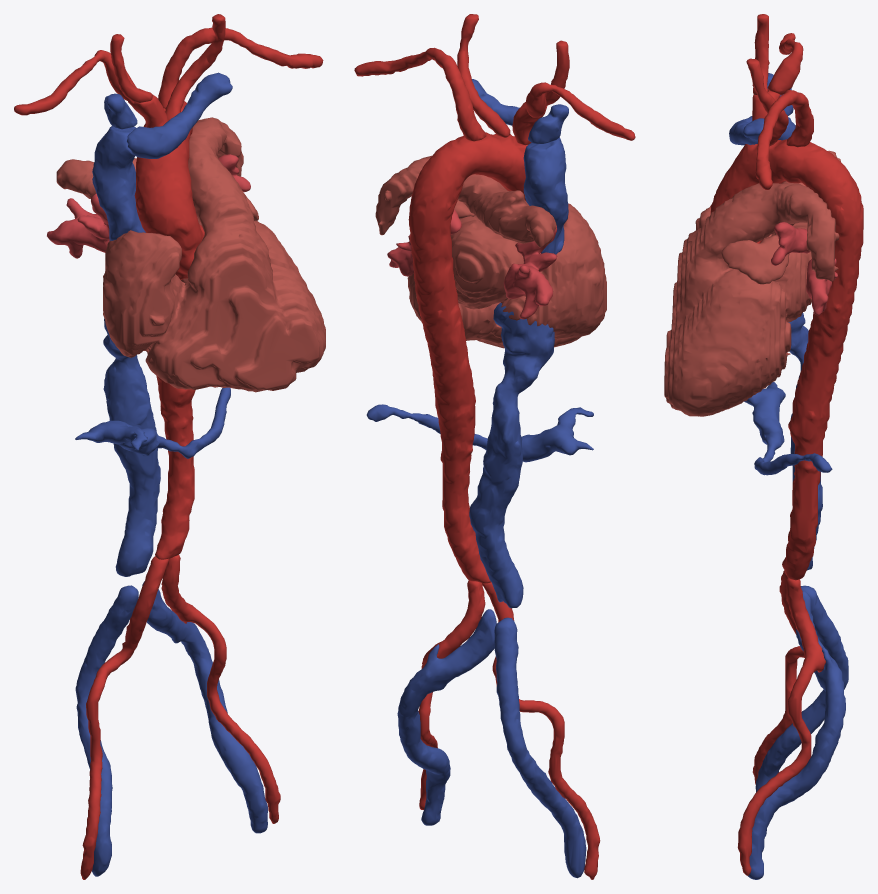
File: tsd_s0327_older_adult_male.cardiovascular.LOD1.glb
The picture shows the model from 3 angles, left to right: view 1: azimuth 30°, elevation 25°; view 2: azimuth 150°, elevation 25°; view 3: azimuth 270°, elevation 25°; orthographic projection. The views are drawn at different scales.
Parts seen in each view (by area): view 1: TSD_S0327.OLDER_ADULT.MALE.CARDIOVASCULAR.HEART_ALL_CHAMBERS, TSD_S0327.OLDER_ADULT.MALE.CARDIOVASCULAR.AORTA, TSD_S0327.OLDER_ADULT.MALE.CARDIOVASCULAR.INFERIOR_VENA_CAVA, TSD_S0327.OLDER_ADULT.MALE.CARDIOVASCULAR.ILIAC_VEIN.L, TSD_S0327.OLDER_ADULT.MALE.CARDIOVASCULAR.ILIAC_VEIN.R, TSD_S0327.OLDER_ADULT.MALE.CARDIOVASCULAR.ILIAC_ARTERY.R, TSD_S0327.OLDER_ADULT.MALE.CARDIOVASCULAR.SUBCLAVIAN_ARTERY. (×2), TSD_S0327.OLDER_ADULT.MALE.CARDIOVASCULAR.ILIAC_ARTERY.L, TSD_S0327.OLDER_ADULT.MALE.CARDIOVASCULAR.BRACHIOCEPHALIC_VE (×2), TSD_S0327.OLDER_ADULT.MALE.CARDIOVASCULAR.SUPERIOR_VENA_CAVA, TSD_S0327.OLDER_ADULT.MALE.CARDIOVASCULAR.PORTAL_VEIN_AND_SP, TSD_S0327.OLDER_ADULT.MALE.CARDIOVASCULAR.PULMONARY_VEINS_ON (+2 smaller); view 2: TSD_S0327.OLDER_ADULT.MALE.CARDIOVASCULAR.AORTA, TSD_S0327.OLDER_ADULT.MALE.CARDIOVASCULAR.HEART_ALL_CHAMBERS, TSD_S0327.OLDER_ADULT.MALE.CARDIOVASCULAR.INFERIOR_VENA_CAVA, TSD_S0327.OLDER_ADULT.MALE.CARDIOVASCULAR.ILIAC_VEIN.L, TSD_S0327.OLDER_ADULT.MALE.CARDIOVASCULAR.ILIAC_VEIN.R, TSD_S0327.OLDER_ADULT.MALE.CARDIOVASCULAR.SUBCLAVIAN_ARTERY. (×2), TSD_S0327.OLDER_ADULT.MALE.CARDIOVASCULAR.PULMONARY_VEINS_ON, TSD_S0327.OLDER_ADULT.MALE.CARDIOVASCULAR.SUPERIOR_VENA_CAVA, TSD_S0327.OLDER_ADULT.MALE.CARDIOVASCULAR.ILIAC_ARTERY.R, TSD_S0327.OLDER_ADULT.MALE.CARDIOVASCULAR.PORTAL_VEIN_AND_SP, TSD_S0327.OLDER_ADULT.MALE.CARDIOVASCULAR.COMMON_CAROTID_ART (×2), TSD_S0327.OLDER_ADULT.MALE.CARDIOVASCULAR.ILIAC_ARTERY.L (+2 smaller); view 3: TSD_S0327.OLDER_ADULT.MALE.CARDIOVASCULAR.HEART_ALL_CHAMBERS, TSD_S0327.OLDER_ADULT.MALE.CARDIOVASCULAR.AORTA, TSD_S0327.OLDER_ADULT.MALE.CARDIOVASCULAR.ILIAC_VEIN.L, TSD_S0327.OLDER_ADULT.MALE.CARDIOVASCULAR.ILIAC_ARTERY.L, TSD_S0327.OLDER_ADULT.MALE.CARDIOVASCULAR.SUBCLAVIAN_ARTERY. (×2), TSD_S0327.OLDER_ADULT.MALE.CARDIOVASCULAR.ILIAC_VEIN.R, TSD_S0327.OLDER_ADULT.MALE.CARDIOVASCULAR.PORTAL_VEIN_AND_SP, TSD_S0327.OLDER_ADULT.MALE.CARDIOVASCULAR.LEFT_ATRIAL_APPEND, TSD_S0327.OLDER_ADULT.MALE.CARDIOVASCULAR.PULMONARY_VEINS_ON, TSD_S0327.OLDER_ADULT.MALE.CARDIOVASCULAR.COMMON_CAROTID_ART (×2), TSD_S0327.OLDER_ADULT.MALE.CARDIOVASCULAR.ILIAC_ARTERY.R, TSD_S0327.OLDER_ADULT.MALE.CARDIOVASCULAR.INFERIOR_VENA_CAVA (+1 smaller).
Part boxes in pixels (x1=…): TSD_S0327.OLDER_ADULT.MALE.CARDIOVASCULAR.HEART_ALL_CHAMBERS: x1=56, y1=117, x2=325, y2=392; TSD_S0327.OLDER_ADULT.MALE.CARDIOVASCULAR.AORTA: x1=134, y1=98, x2=204, y2=559; TSD_S0327.OLDER_ADULT.MALE.CARDIOVASCULAR.INFERIOR_VENA_CAVA: x1=103, y1=318, x2=160, y2=576; TSD_S0327.OLDER_ADULT.MALE.CARDIOVASCULAR.ILIAC_VEIN.L: x1=142, y1=581, x2=267, y2=833; TSD_S0327.OLDER_ADULT.MALE.CARDIOVASCULAR.ILIAC_VEIN.R: x1=75, y1=585, x2=138, y2=876; TSD_S0327.OLDER_ADULT.MALE.CARDIOVASCULAR.ILIAC_ARTERY.R: x1=80, y1=556, x2=168, y2=879; TSD_S0327.OLDER_ADULT.MALE.CARDIOVASCULAR.SUBCLAVIAN_ARTERY. (×2): x1=14, y1=27, x2=323, y2=115; TSD_S0327.OLDER_ADULT.MALE.CARDIOVASCULAR.ILIAC_ARTERY.L: x1=161, y1=554, x2=280, y2=823; TSD_S0327.OLDER_ADULT.MALE.CARDIOVASCULAR.BRACHIOCEPHALIC_VE (×2): x1=104, y1=72, x2=232, y2=158; TSD_S0327.OLDER_ADULT.MALE.CARDIOVASCULAR.SUPERIOR_VENA_CAVA: x1=92, y1=126, x2=145, y2=240; TSD_S0327.OLDER_ADULT.MALE.CARDIOVASCULAR.PORTAL_VEIN_AND_SP: x1=75, y1=387, x2=230, y2=458; TSD_S0327.OLDER_ADULT.MALE.CARDIOVASCULAR.PULMONARY_VEINS_ON: x1=47, y1=154, x2=250, y2=258; TSD_S0327.OLDER_ADULT.MALE.CARDIOVASCULAR.AORTA: x1=408, y1=132, x2=527, y2=583; TSD_S0327.OLDER_ADULT.MALE.CARDIOVASCULAR.HEART_ALL_CHAMBERS: x1=375, y1=155, x2=606, y2=348; TSD_S0327.OLDER_ADULT.MALE.CARDIOVASCULAR.INFERIOR_VENA_CAVA: x1=469, y1=302, x2=554, y2=608; TSD_S0327.OLDER_ADULT.MALE.CARDIOVASCULAR.ILIAC_VEIN.L: x1=397, y1=609, x2=496, y2=825; TSD_S0327.OLDER_ADULT.MALE.CARDIOVASCULAR.ILIAC_VEIN.R: x1=494, y1=617, x2=586, y2=878; TSD_S0327.OLDER_ADULT.MALE.CARDIOVASCULAR.SUBCLAVIAN_ARTERY. (×2): x1=354, y1=47, x2=635, y2=141; TSD_S0327.OLDER_ADULT.MALE.CARDIOVASCULAR.PULMONARY_VEINS_ON: x1=387, y1=209, x2=557, y2=319; TSD_S0327.OLDER_ADULT.MALE.CARDIOVASCULAR.SUPERIOR_VENA_CAVA: x1=523, y1=139, x2=568, y2=254; TSD_S0327.OLDER_ADULT.MALE.CARDIOVASCULAR.ILIAC_ARTERY.R: x1=482, y1=582, x2=600, y2=879; TSD_S0327.OLDER_ADULT.MALE.CARDIOVASCULAR.PORTAL_VEIN_AND_SP: x1=366, y1=404, x2=593, y2=462; TSD_S0327.OLDER_ADULT.MALE.CARDIOVASCULAR.COMMON_CAROTID_ART (×2): x1=457, y1=14, x2=569, y2=137; TSD_S0327.OLDER_ADULT.MALE.CARDIOVASCULAR.ILIAC_ARTERY.L: x1=418, y1=580, x2=485, y2=809; TSD_S0327.OLDER_ADULT.MALE.CARDIOVASCULAR.HEART_ALL_CHAMBERS: x1=664, y1=150, x2=840, y2=416; TSD_S0327.OLDER_ADULT.MALE.CARDIOVASCULAR.AORTA: x1=710, y1=139, x2=863, y2=580; TSD_S0327.OLDER_ADULT.MALE.CARDIOVASCULAR.ILIAC_VEIN.L: x1=748, y1=591, x2=845, y2=879; TSD_S0327.OLDER_ADULT.MALE.CARDIOVASCULAR.ILIAC_ARTERY.L: x1=737, y1=578, x2=825, y2=875; TSD_S0327.OLDER_ADULT.MALE.CARDIOVASCULAR.SUBCLAVIAN_ARTERY. (×2): x1=755, y1=33, x2=813, y2=189; TSD_S0327.OLDER_ADULT.MALE.CARDIOVASCULAR.ILIAC_VEIN.R: x1=755, y1=585, x2=848, y2=792; TSD_S0327.OLDER_ADULT.MALE.CARDIOVASCULAR.PORTAL_VEIN_AND_SP: x1=744, y1=382, x2=832, y2=475; TSD_S0327.OLDER_ADULT.MALE.CARDIOVASCULAR.LEFT_ATRIAL_APPEND: x1=721, y1=234, x2=789, y2=284; TSD_S0327.OLDER_ADULT.MALE.CARDIOVASCULAR.PULMONARY_VEINS_ON: x1=771, y1=222, x2=837, y2=315; TSD_S0327.OLDER_ADULT.MALE.CARDIOVASCULAR.COMMON_CAROTID_ART (×2): x1=746, y1=14, x2=788, y2=145; TSD_S0327.OLDER_ADULT.MALE.CARDIOVASCULAR.ILIAC_ARTERY.R: x1=752, y1=570, x2=805, y2=784; TSD_S0327.OLDER_ADULT.MALE.CARDIOVASCULAR.INFERIOR_VENA_CAVA: x1=788, y1=313, x2=822, y2=570.
Size of the model in its own units: 0.2159 by 0.5856 by 0.1307.
